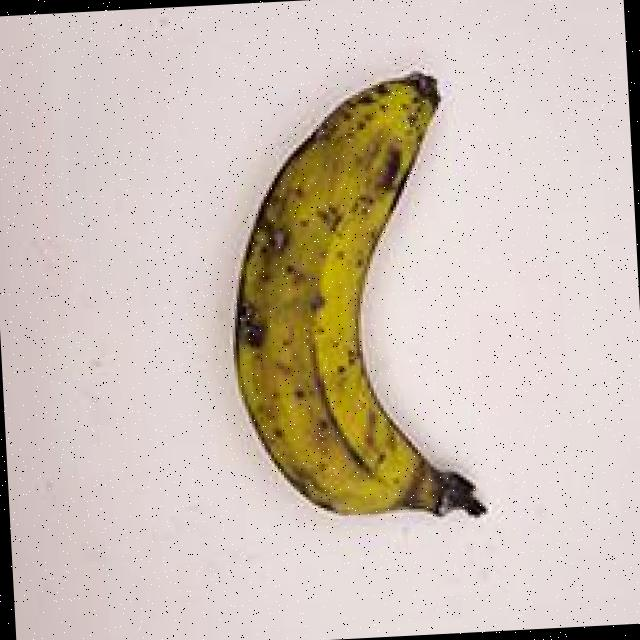Overripe: (166, 30, 556, 572)
